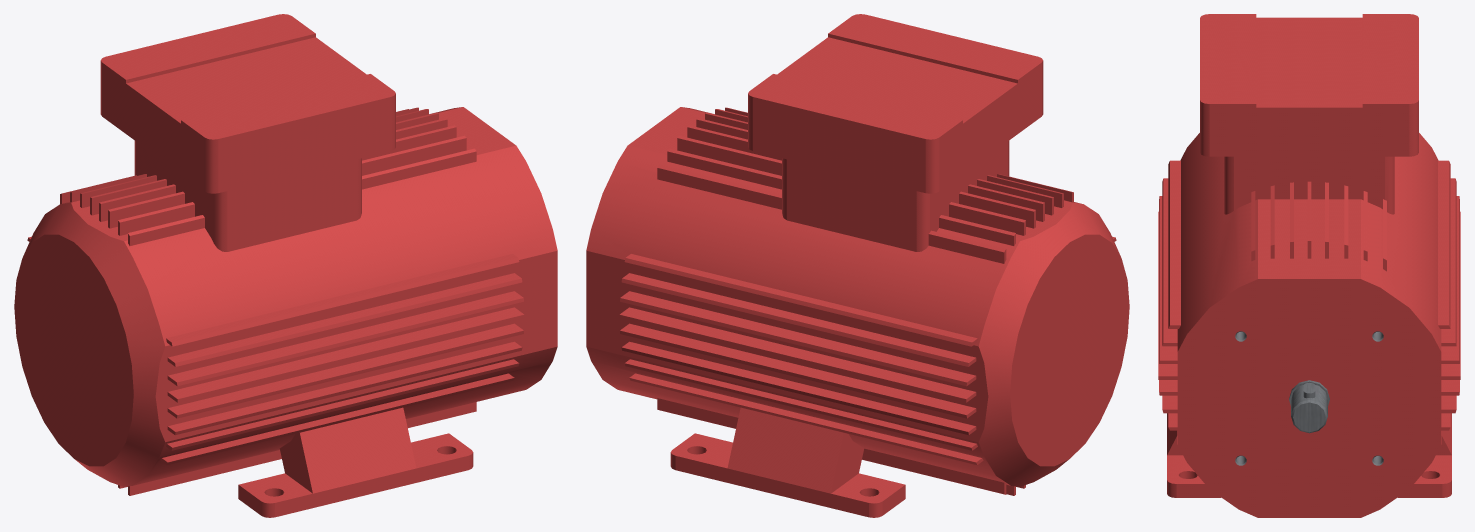
Rendered from DRN80MK4-B3.glb.
3 renders of one model, left to right at view 1: azimuth 30°, elevation 25°; view 2: azimuth 150°, elevation 25°; view 3: azimuth 270°, elevation 25°, orthographic. The views are drawn at different scales.
Parts seen in each view (by area): view 1: DRN80MK4-B3; view 2: DRN80MK4-B3; view 3: DRN80MK4-B3.
Part boxes in pixels (box(x1,y1,x2,y2)): DRN80MK4-B3: box(14, 14, 557, 517); DRN80MK4-B3: box(586, 14, 1129, 517); DRN80MK4-B3: box(1158, 14, 1460, 517).
Size of the model in its own units: 0.264 by 0.208 by 0.156.
Materials: 2 (2 with a texture image).
